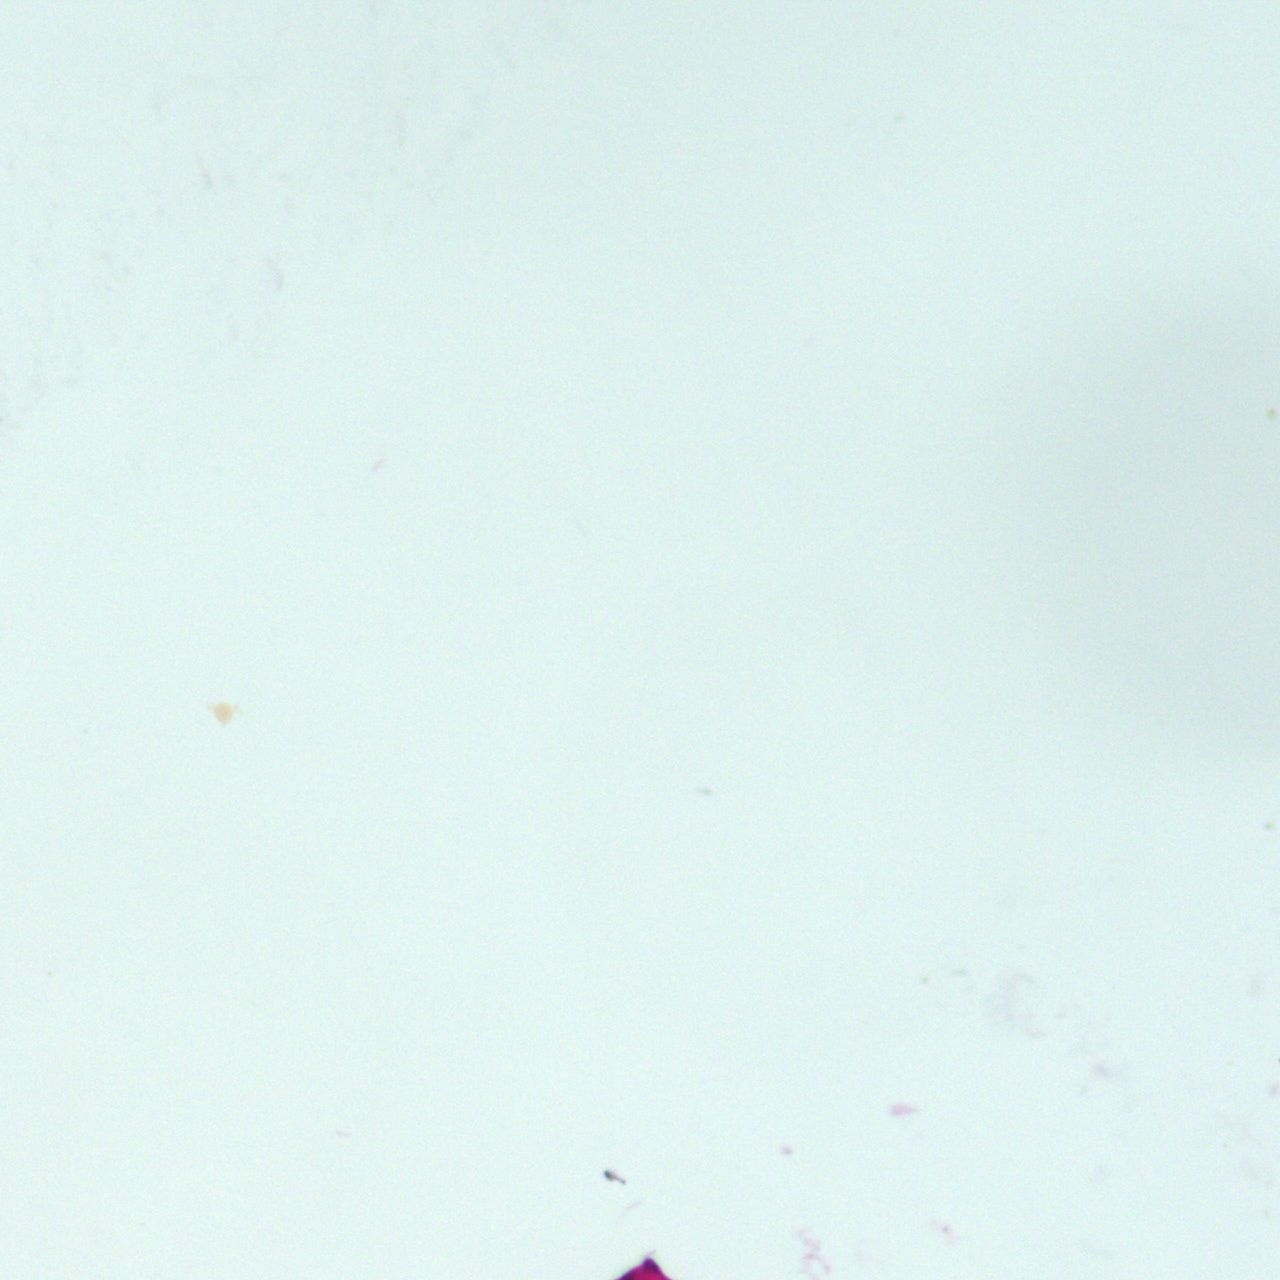dust: (216, 703, 232, 723)
